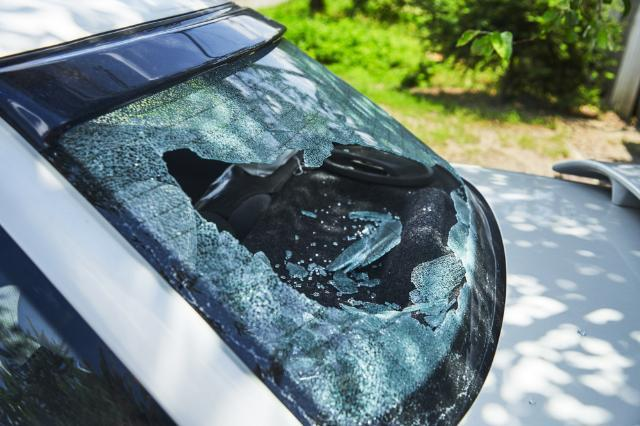glass shatter: (47, 38, 497, 426)
